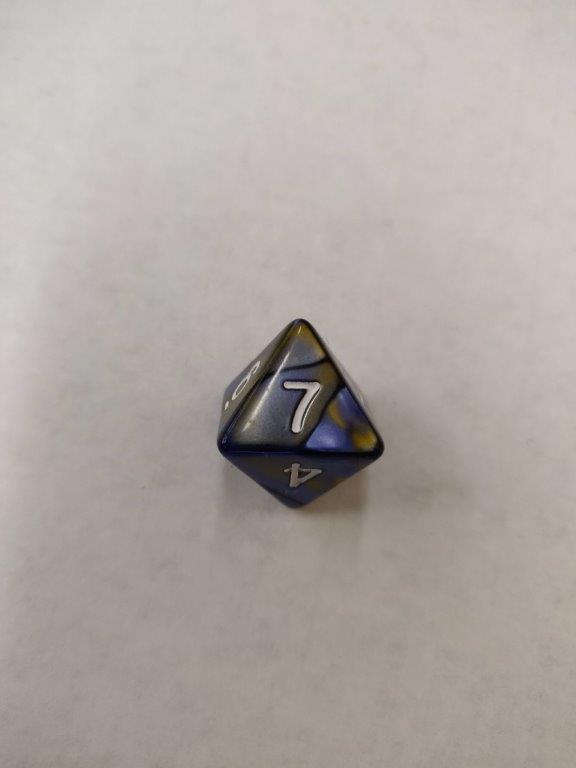d8-7: (216, 318, 385, 511)
